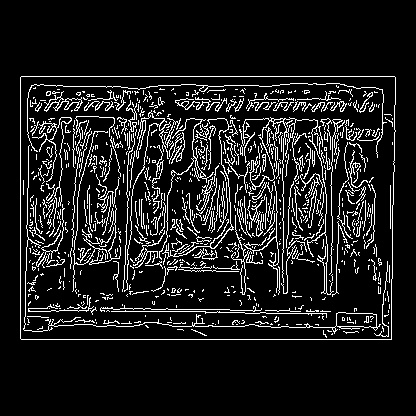buddha-sitting: (70, 165, 203, 200)
